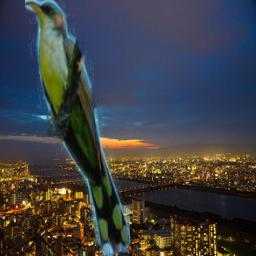Cuckoo: (25, 0, 130, 256)
